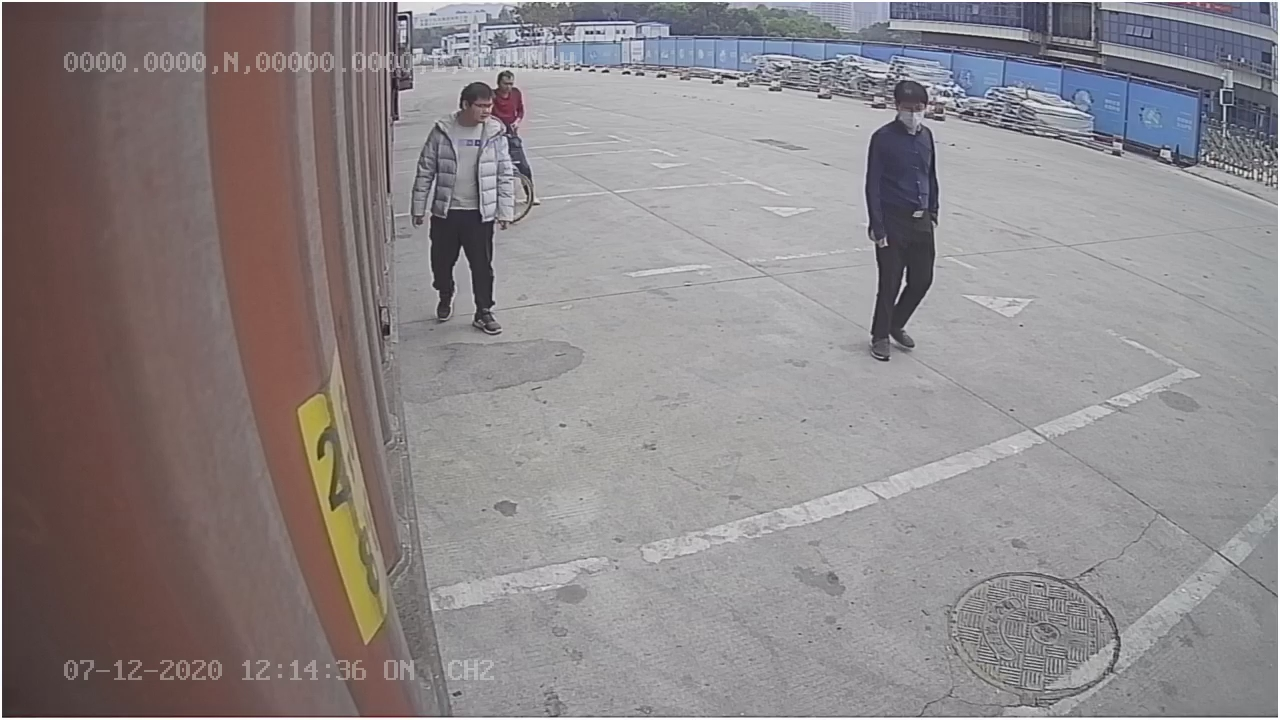person: (861, 73, 950, 366)
